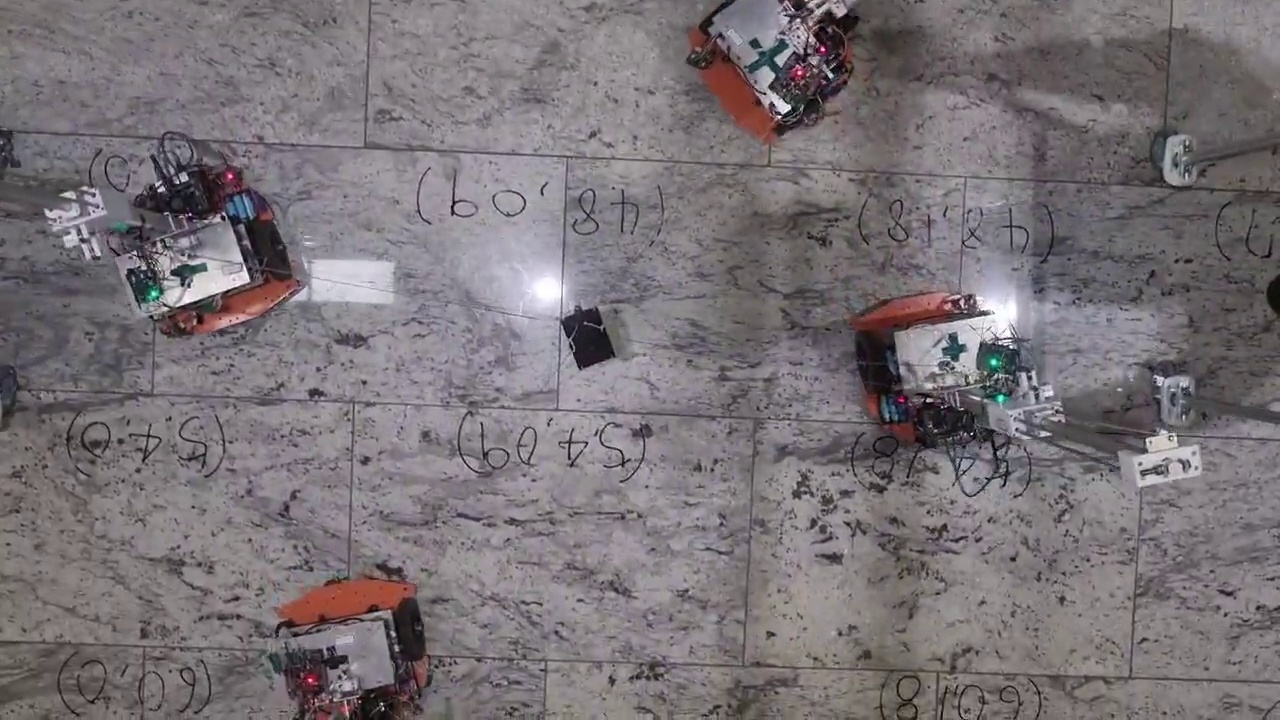e0: (560, 306, 618, 371)
r1: (855, 308, 1003, 395)
r2: (714, 4, 807, 123)
r3: (135, 219, 293, 323)
r4: (275, 597, 427, 683)
y_+_axis_vector: (567, 157, 966, 178)
y_-_axis_vector: (158, 137, 567, 157)
